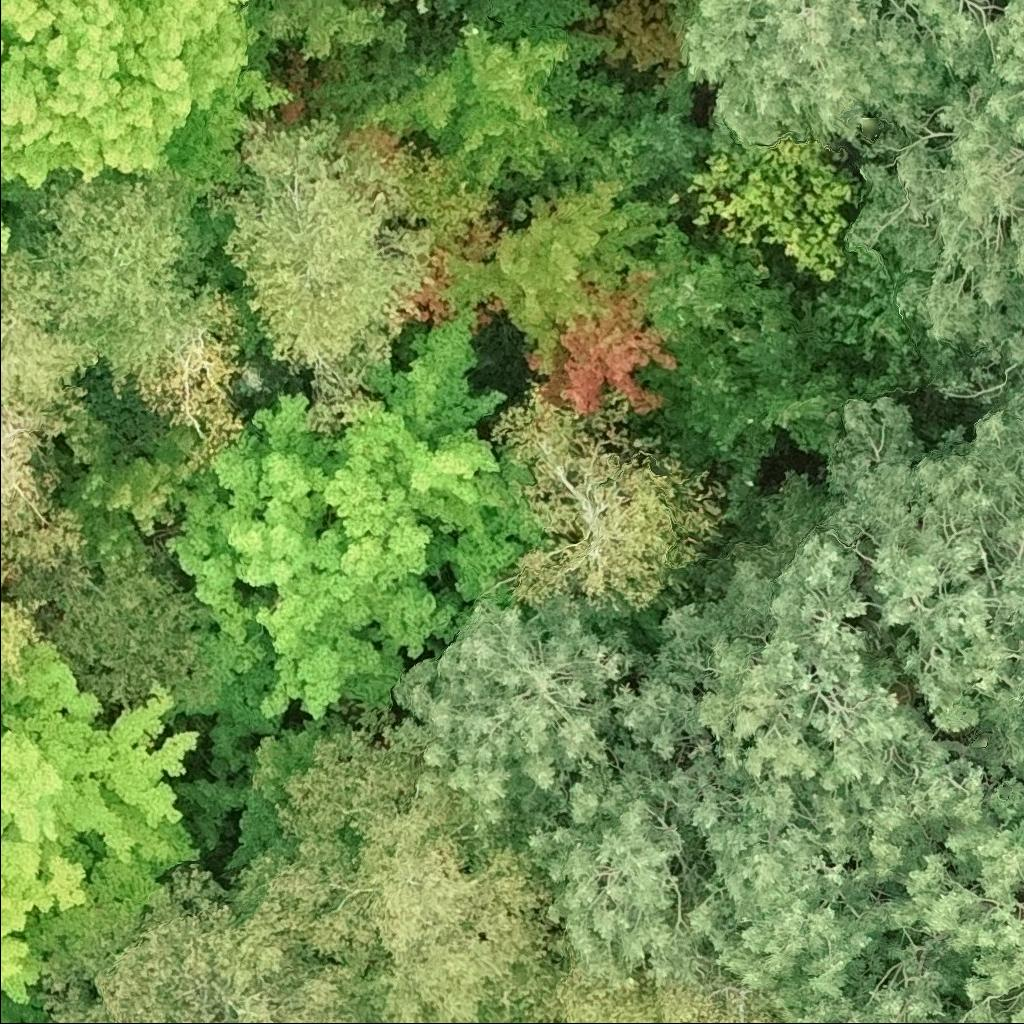crown: (166, 309, 567, 782), (614, 518, 997, 896), (237, 706, 568, 1023), (524, 736, 894, 1014), (821, 381, 1023, 788), (0, 0, 300, 256), (0, 640, 202, 1014), (13, 166, 250, 471), (223, 112, 445, 434), (391, 592, 655, 843), (849, 0, 1023, 377), (493, 375, 729, 617), (40, 866, 377, 1023), (665, 0, 1011, 151), (362, 20, 627, 202), (439, 175, 671, 352), (6, 546, 211, 723), (877, 778, 1023, 1023), (0, 249, 105, 588), (627, 222, 799, 381), (688, 133, 860, 287), (809, 240, 967, 397), (680, 319, 861, 453), (523, 270, 683, 420), (481, 948, 789, 1023), (62, 415, 198, 572), (782, 943, 958, 1023), (230, 351, 313, 412), (0, 582, 49, 685), (0, 981, 53, 1023), (415, 0, 435, 15)
